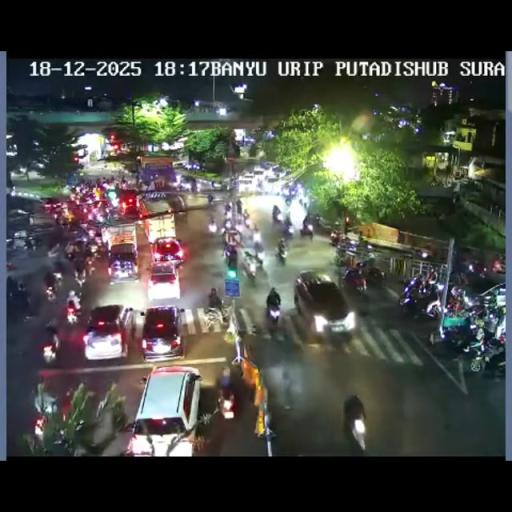Car: (126, 365, 202, 454), (294, 270, 354, 340), (83, 304, 131, 361), (139, 304, 185, 361), (146, 259, 182, 302), (106, 242, 140, 284), (150, 236, 185, 266), (117, 188, 142, 218), (42, 198, 62, 215), (237, 174, 254, 192), (266, 170, 279, 186), (253, 168, 265, 178)
Motorcycle: (269, 189, 318, 258), (433, 312, 476, 353), (400, 278, 442, 318), (466, 332, 504, 373), (264, 322, 300, 362), (345, 414, 367, 456), (481, 294, 505, 332), (41, 324, 61, 363), (64, 236, 94, 261), (455, 257, 486, 281), (446, 284, 470, 313), (342, 266, 366, 294), (10, 286, 30, 316), (281, 369, 296, 409), (240, 251, 260, 280), (86, 203, 111, 226), (363, 266, 385, 290), (264, 297, 282, 324), (208, 288, 222, 317), (65, 298, 79, 324), (412, 246, 434, 262), (332, 248, 350, 267), (23, 234, 42, 252), (224, 243, 238, 267), (84, 256, 98, 278), (73, 266, 86, 287), (299, 222, 314, 240), (362, 246, 376, 264), (92, 230, 105, 249), (45, 282, 57, 302), (491, 257, 505, 274), (424, 269, 438, 286), (276, 244, 287, 265), (51, 270, 63, 288), (281, 220, 294, 236), (330, 228, 342, 245), (243, 216, 255, 232), (251, 228, 262, 245), (60, 214, 70, 230), (207, 219, 217, 234), (210, 178, 222, 190), (222, 218, 233, 231), (272, 208, 282, 222), (230, 178, 240, 192), (177, 180, 188, 192), (254, 181, 264, 194), (221, 177, 231, 190), (284, 192, 293, 206), (299, 197, 309, 209), (138, 374, 147, 386), (190, 180, 198, 192), (224, 203, 231, 216), (236, 201, 242, 215), (243, 209, 250, 219), (208, 194, 214, 205)
